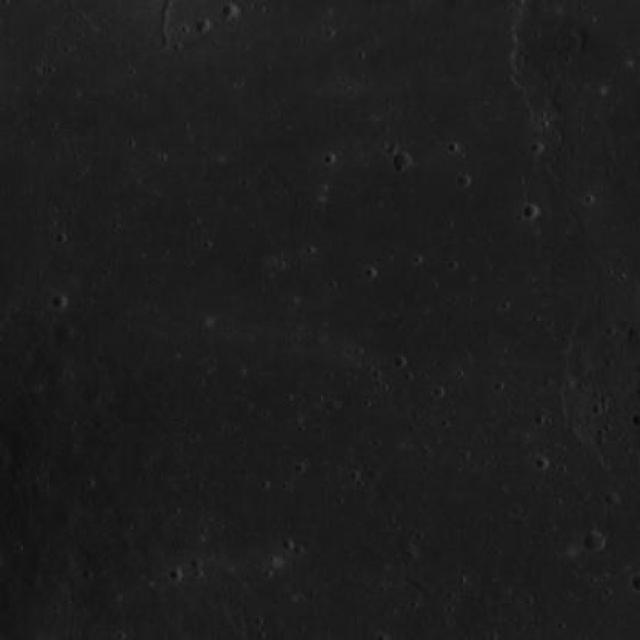crater: (586, 530, 608, 552), (54, 319, 74, 338), (395, 152, 413, 170), (525, 204, 541, 219)
